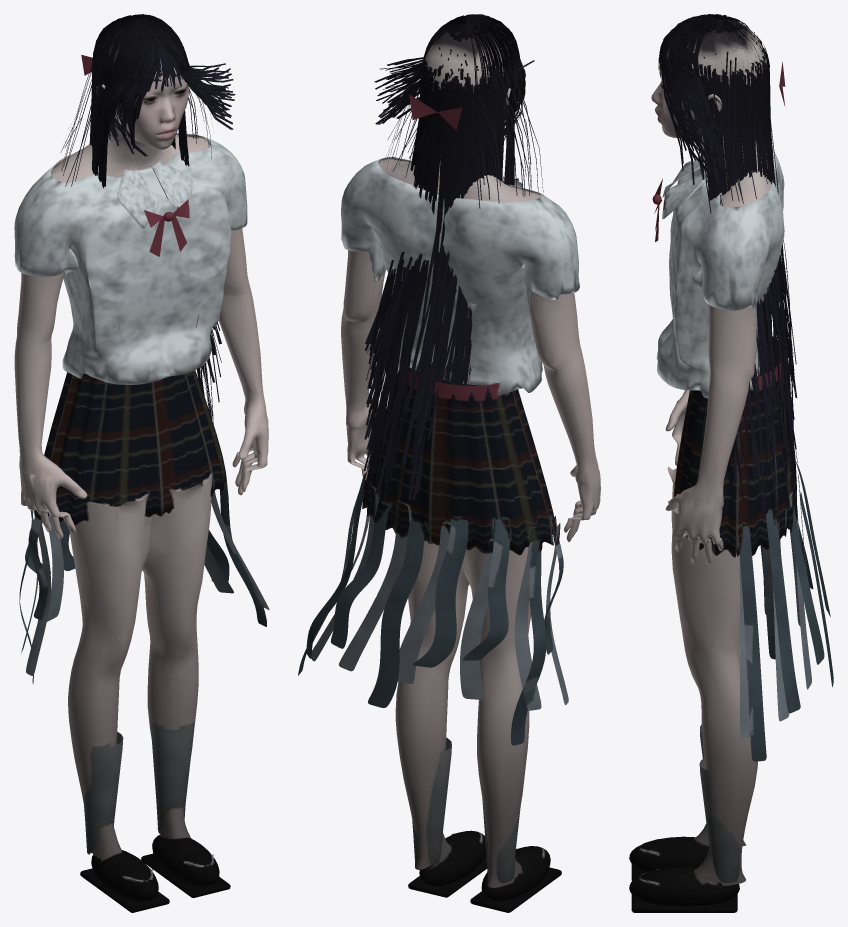
Rendered from restroom.glb.
3 renders of one model, left to right at view 1: azimuth 30°, elevation 25°; view 2: azimuth 150°, elevation 25°; view 3: azimuth 270°, elevation 25°, orthographic. The views are drawn at different scales.
Parts seen in each view (by area): view 1: GhostBody, GhostHair; view 2: GhostBody, GhostHair; view 3: GhostBody, GhostHair.
Boxes of the visible parts, x1,y1,x2,y2 form: GhostBody: [14, 29, 269, 912]; GhostHair: [60, 14, 235, 423]; GhostBody: [298, 21, 600, 912]; GhostHair: [363, 14, 543, 500]; GhostBody: [629, 19, 833, 912]; GhostHair: [658, 14, 797, 516].
Size of the model in its own units: 0.5589 by 1.72 by 0.3654.
2 materials, 1 textured.
